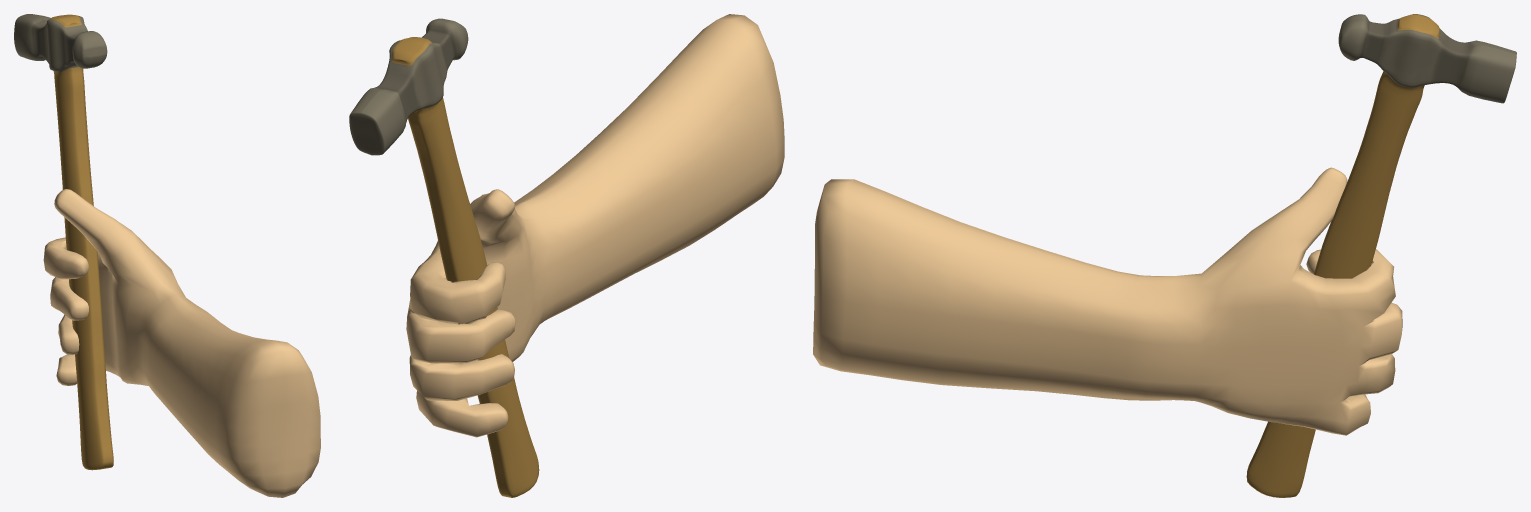
The model's file is hand_with_hammer_R.fbx.
3 views of the same model, side by side, from view 1: azimuth 30°, elevation 25°; view 2: azimuth 150°, elevation 25°; view 3: azimuth 270°, elevation 25° (orthographic). The views are drawn at different scales.
Parts seen in each view (by area): view 1: pasted__pasted__pCube2; view 2: pasted__pasted__pCube2; view 3: pasted__pasted__pCube2.
Boxes of the visible parts, x1,y1,x2,y2 form: pasted__pasted__pCube2: (14,14,320,497); pasted__pasted__pCube2: (349,14,784,497); pasted__pasted__pCube2: (813,14,1516,497).
Bounding box in the file's own units: 2.77 × 9.61 × 12.45.
Materials: 2 (2 with a texture image).
